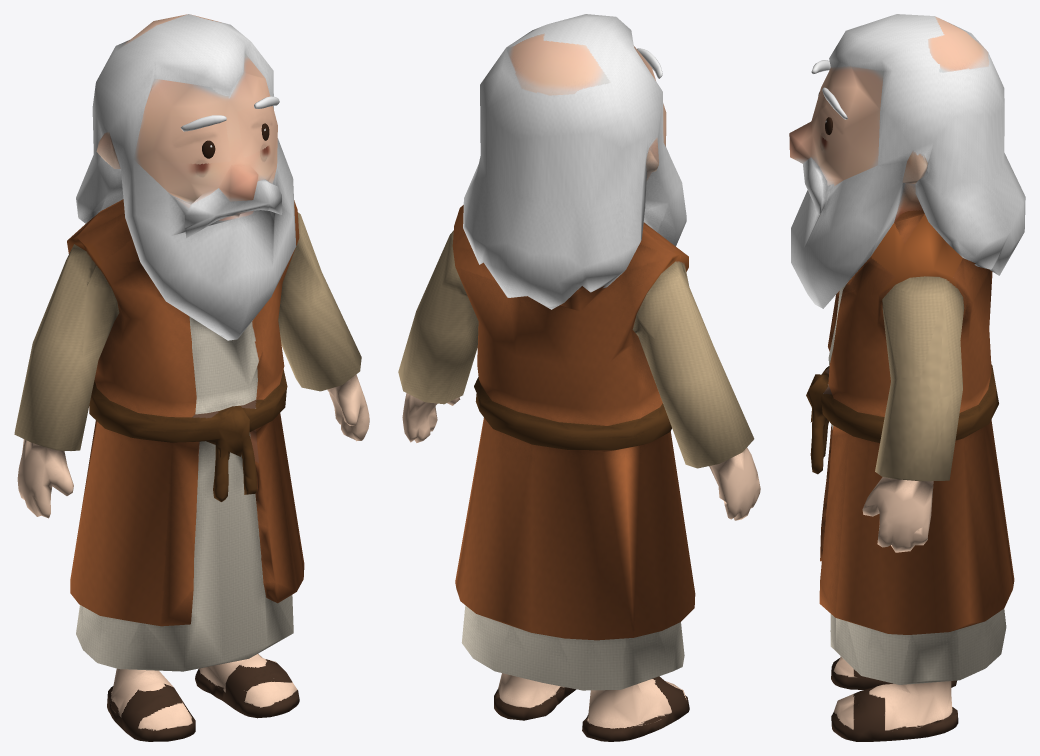
File: noe_juego.glb
3 renders of one model, left to right at view 1: azimuth 30°, elevation 25°; view 2: azimuth 150°, elevation 25°; view 3: azimuth 270°, elevation 25°, orthographic.
Visible parts, largest first — view 1: NoeLow2500; view 2: NoeLow2500; view 3: NoeLow2500.
Part boxes in pixels (x1=…): NoeLow2500: x1=14, y1=14, x2=369, y2=741; NoeLow2500: x1=398, y1=14, x2=760, y2=741; NoeLow2500: x1=789, y1=14, x2=1025, y2=741.
Bounding box in the file's own units: 0.8163 × 1.55 × 0.4905.
Materials: 4 (1 with a texture image).
